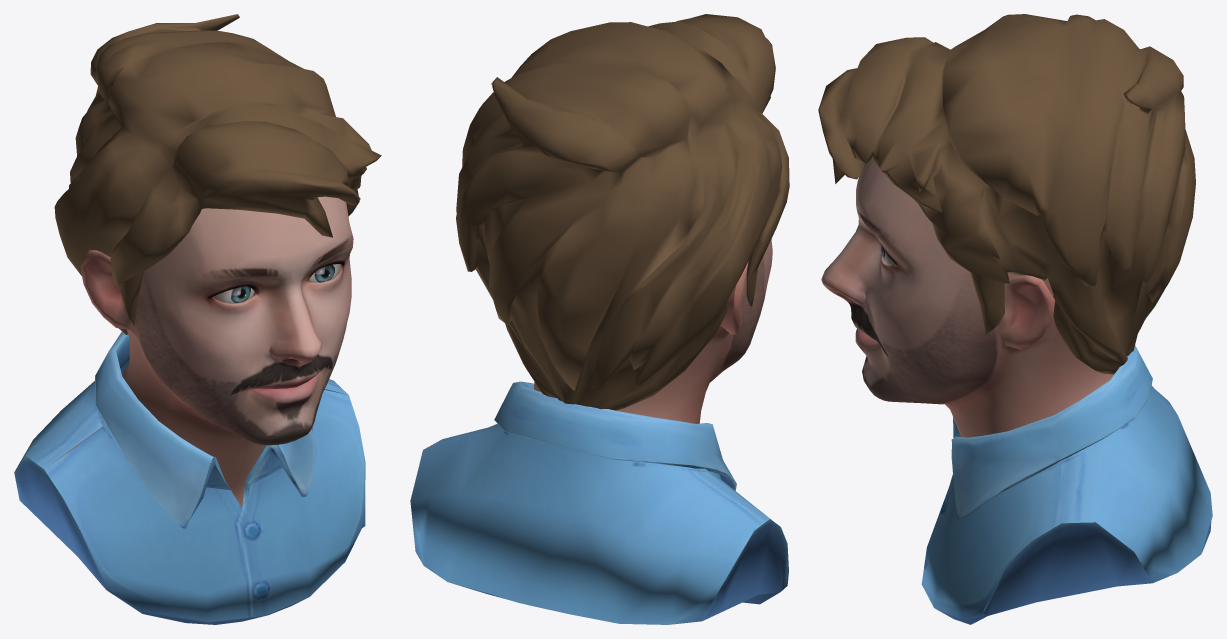
The model's file is alex.glb.
3 renders of one model, left to right at view 1: azimuth 30°, elevation 25°; view 2: azimuth 150°, elevation 25°; view 3: azimuth 270°, elevation 25°, orthographic. The views are drawn at different scales.
Parts seen in each view (by area): view 1: Wolf3D_Shirt, Wolf3D_Hair, Wolf3D_Head; view 2: Wolf3D_Hair, Wolf3D_Shirt, Wolf3D_Head; view 3: Wolf3D_Hair, Wolf3D_Shirt, Wolf3D_Head.
Boxes of the visible parts, x1,y1,x2,y2 form: Wolf3D_Shirt: (14, 332, 365, 624); Wolf3D_Hair: (54, 14, 381, 334); Wolf3D_Head: (49, 196, 353, 507); Wolf3D_Hair: (456, 14, 789, 410); Wolf3D_Shirt: (410, 381, 788, 624); Wolf3D_Head: (534, 239, 772, 423); Wolf3D_Hair: (818, 14, 1195, 374); Wolf3D_Shirt: (921, 345, 1212, 624); Wolf3D_Head: (821, 159, 1113, 516).
Bounding box in the file's own units: 0.2312 × 0.3867 × 0.2494.
Materials: 4 (4 with a texture image).
